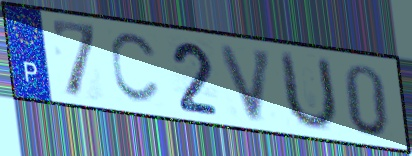0: (340, 63, 392, 139)
2: (166, 36, 225, 119)
7: (50, 17, 100, 101)
C: (107, 31, 162, 107)
U: (279, 48, 341, 133)
V: (216, 43, 277, 126)
